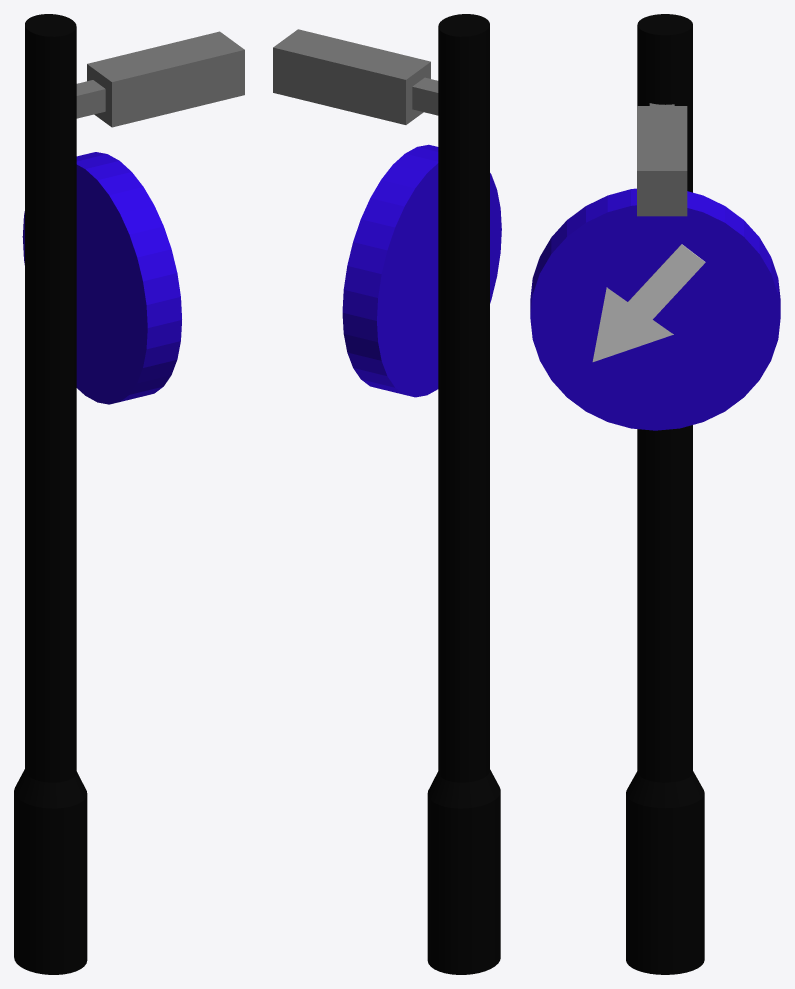
Rendered from KeepLeft.fbx.
The picture shows the model from 3 angles, left to right: view 1: azimuth 30°, elevation 25°; view 2: azimuth 150°, elevation 25°; view 3: azimuth 270°, elevation 25°; orthographic projection.
Parts seen in each view (by area): view 1: Cylinder, Circle, Cube; view 2: Cylinder, Circle, Cube; view 3: Circle, Cylinder, Cube, KEEPLEFTARROW.
Boxes of the visible parts, box(x1,y1,x2,y2) form: Cylinder: box(14, 14, 87, 974); Circle: box(22, 152, 181, 404); Cube: box(76, 31, 244, 127); Cylinder: box(427, 14, 500, 974); Circle: box(342, 144, 501, 397); Cube: box(273, 29, 438, 124); Circle: box(530, 188, 780, 430); Cylinder: box(626, 14, 704, 974); Cube: box(637, 103, 687, 216); KEEPLEFTARROW: box(592, 244, 705, 361).
Size of the model in its own units: 1.01 by 4.28 by 1.04.
